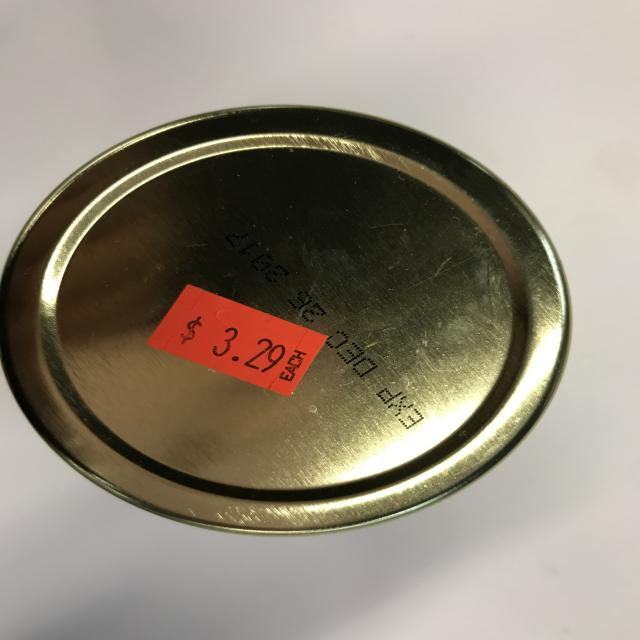Metal: (0, 94, 590, 556)
